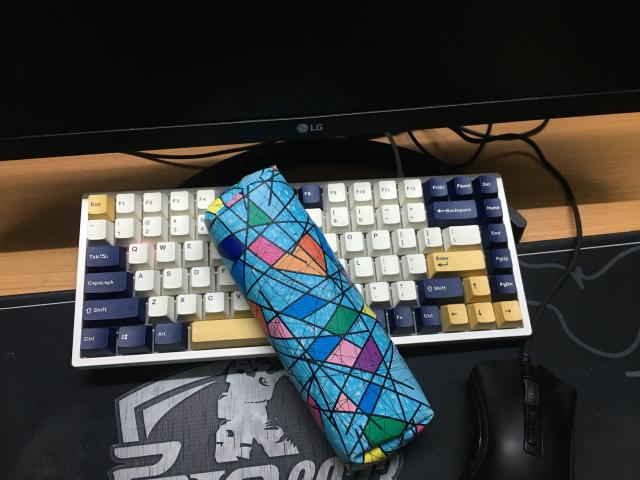Mouse: (461, 360, 576, 479)
